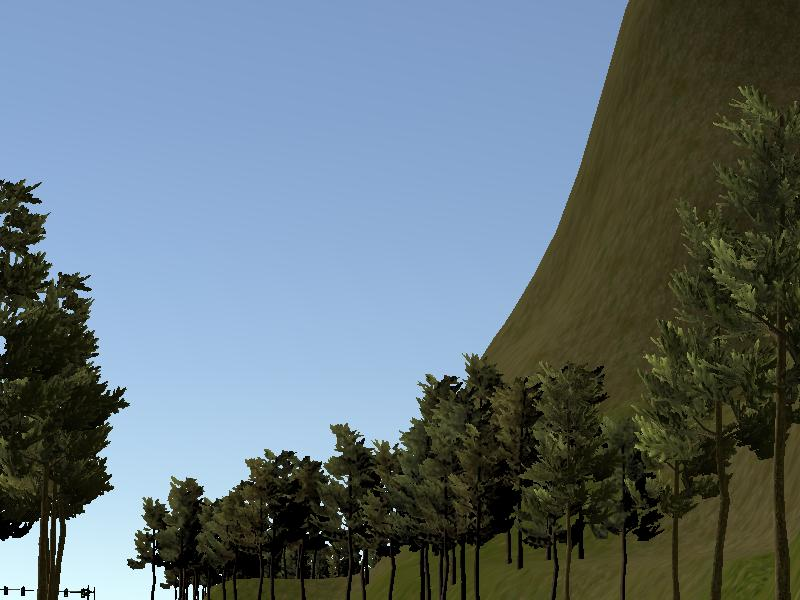background: (1, 4, 800, 598)
